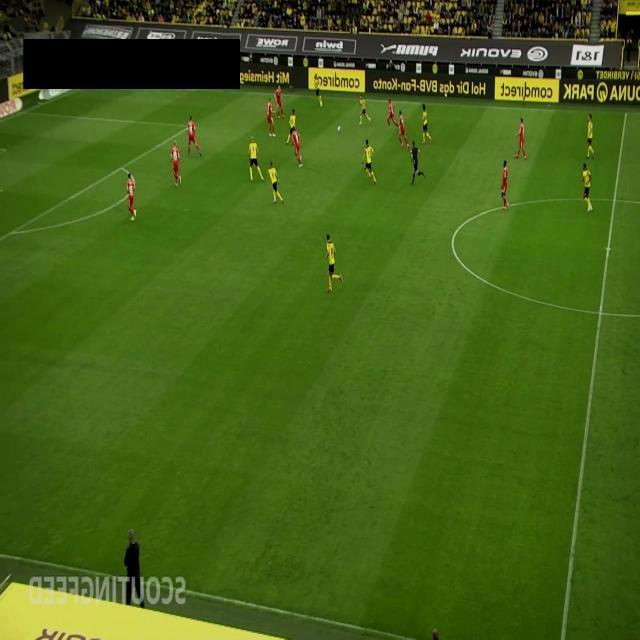ball: (337, 125, 341, 132)
team1: (186, 114, 202, 158), (170, 140, 182, 187), (291, 125, 303, 167), (514, 118, 526, 160), (126, 173, 136, 222), (398, 110, 410, 150), (386, 98, 399, 130), (275, 84, 285, 120), (267, 97, 276, 137), (502, 160, 508, 210)
team2: (326, 233, 344, 293), (266, 160, 284, 204), (248, 134, 264, 182), (362, 138, 376, 186), (581, 162, 593, 212), (421, 104, 432, 144), (358, 94, 371, 126), (586, 114, 595, 160), (286, 108, 296, 146), (314, 74, 324, 106)
